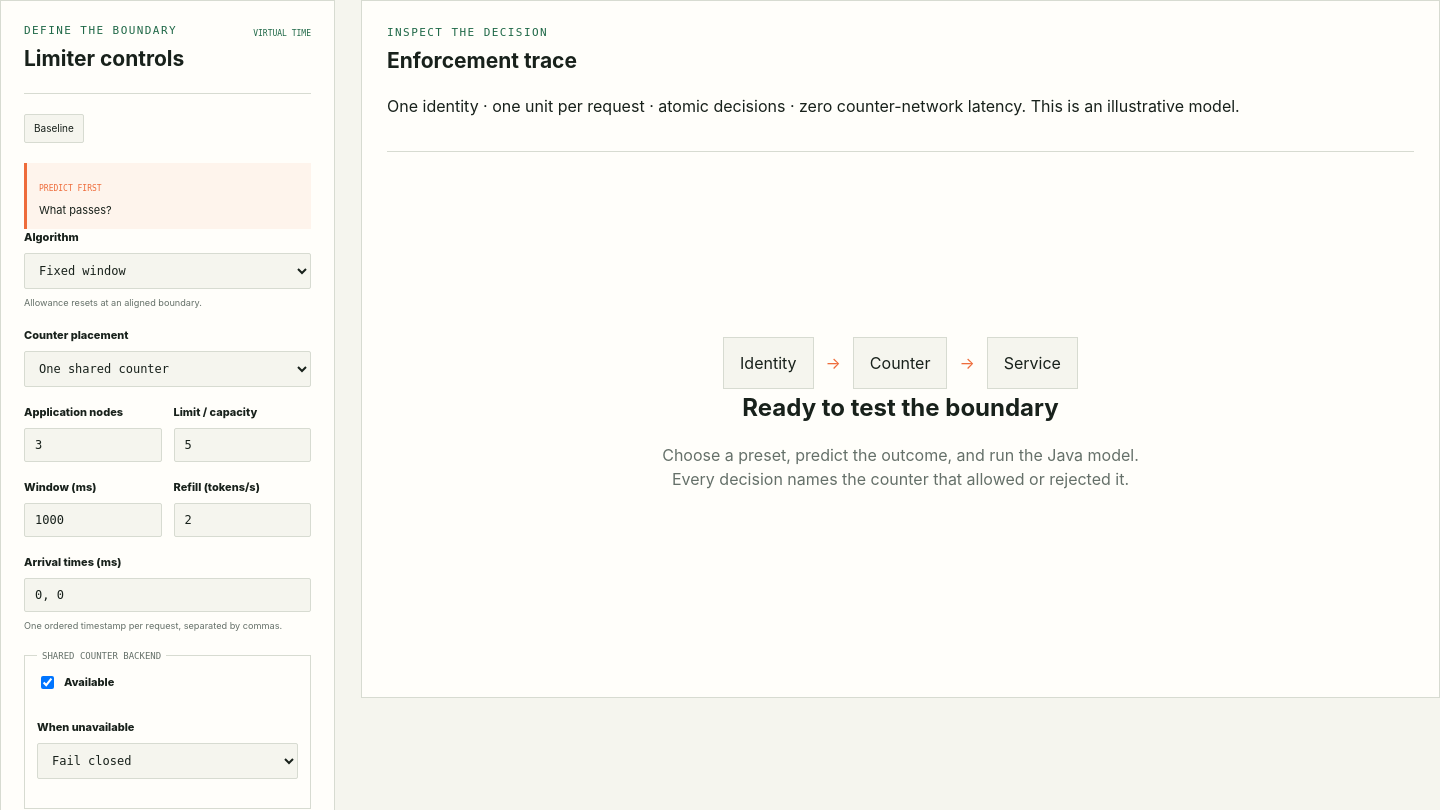
Scenario: Rate limiter playground › shows local aggregate allowance and stale-result state
Select "Local counter per node" in the dropdown labelled "Counter placement": (168, 369) [24,351,311,387]
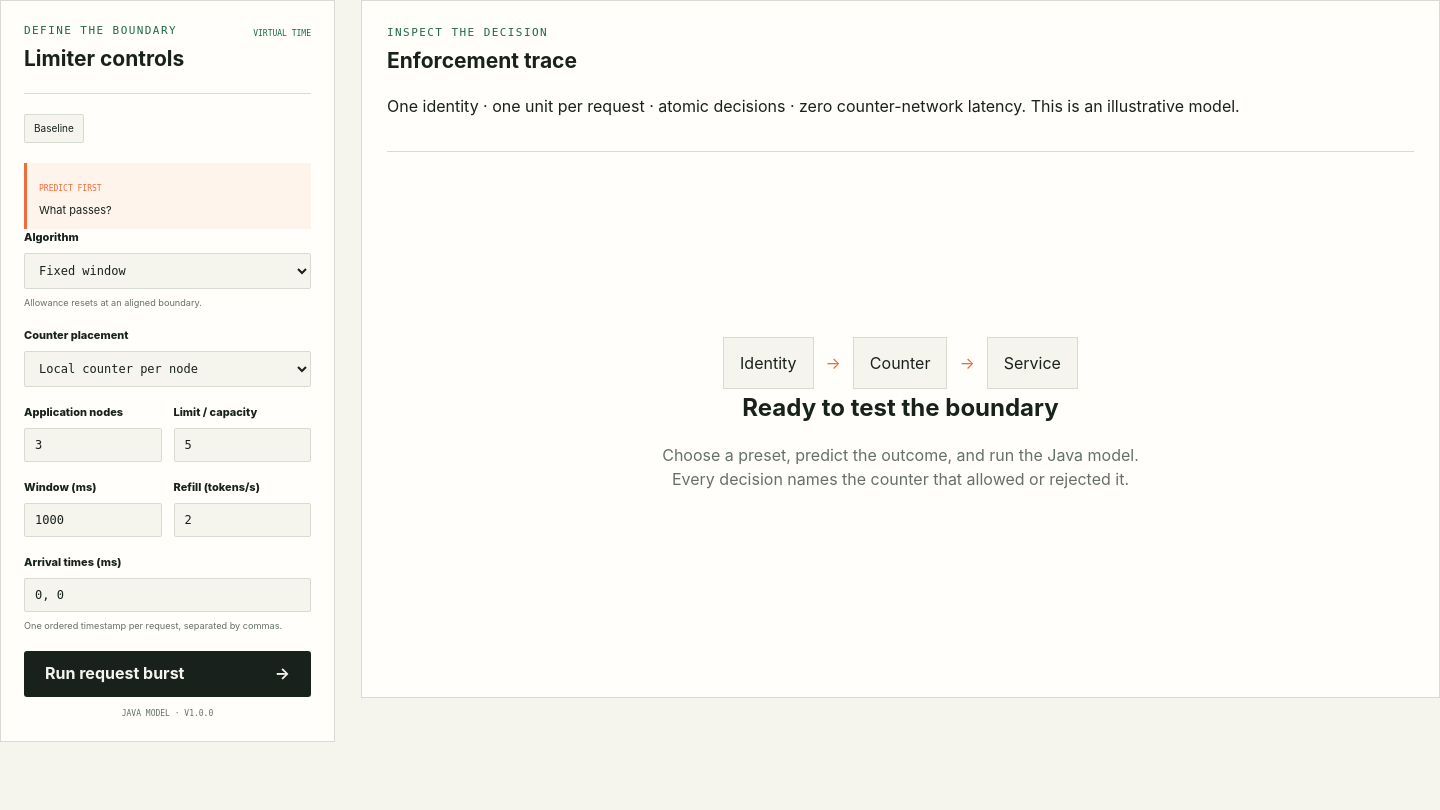
Click the button "Run request burst →": click(168, 674) [24,650,311,696]
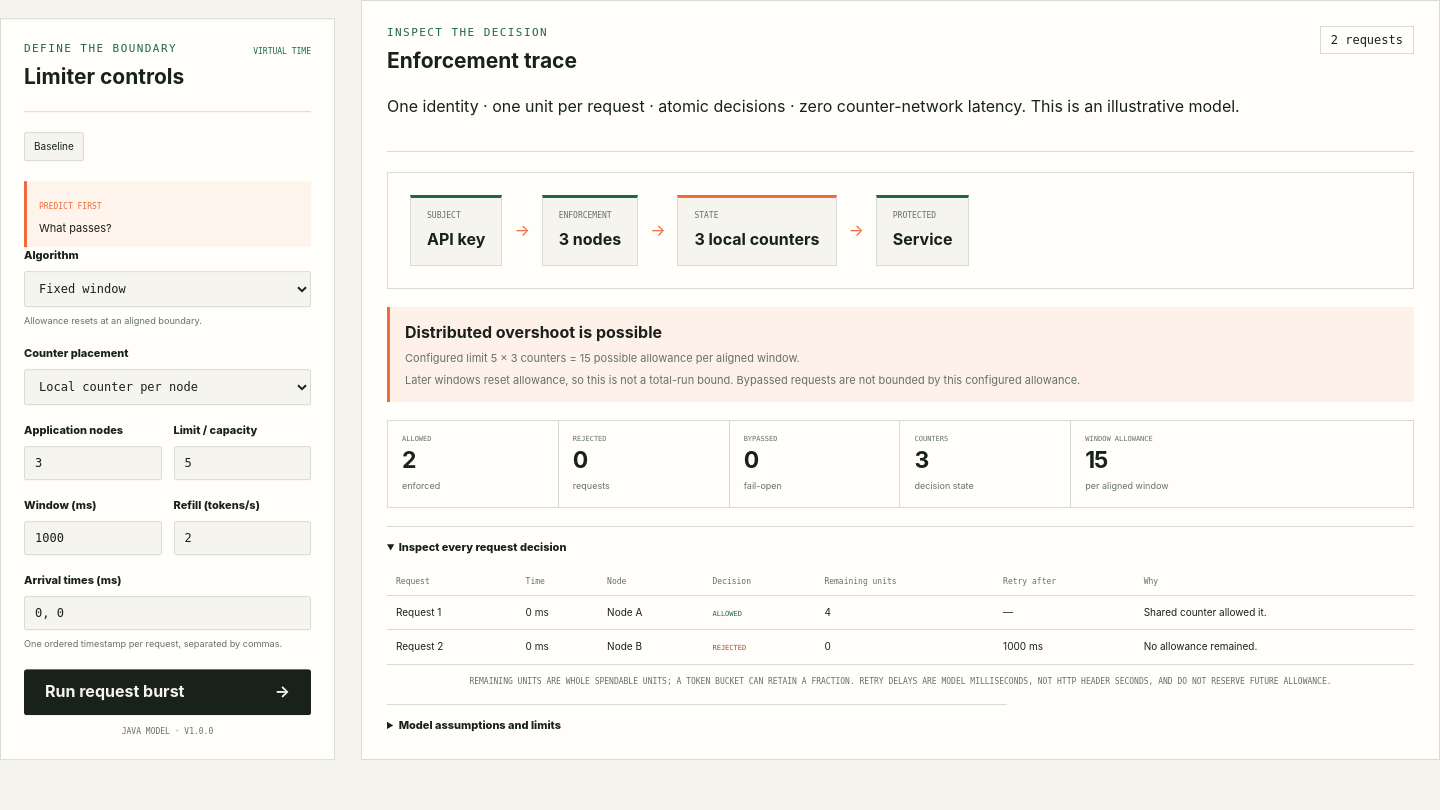
Check: the text "Distributed overshoot is possible" is shown, box [405,322,662,342]
Check: the text "5 × 3 counters = 15" is shown, box [405,351,800,365]
Replace the text in the number field labelled "Limit / capacity" with "6": (242, 463) [174,446,311,480]
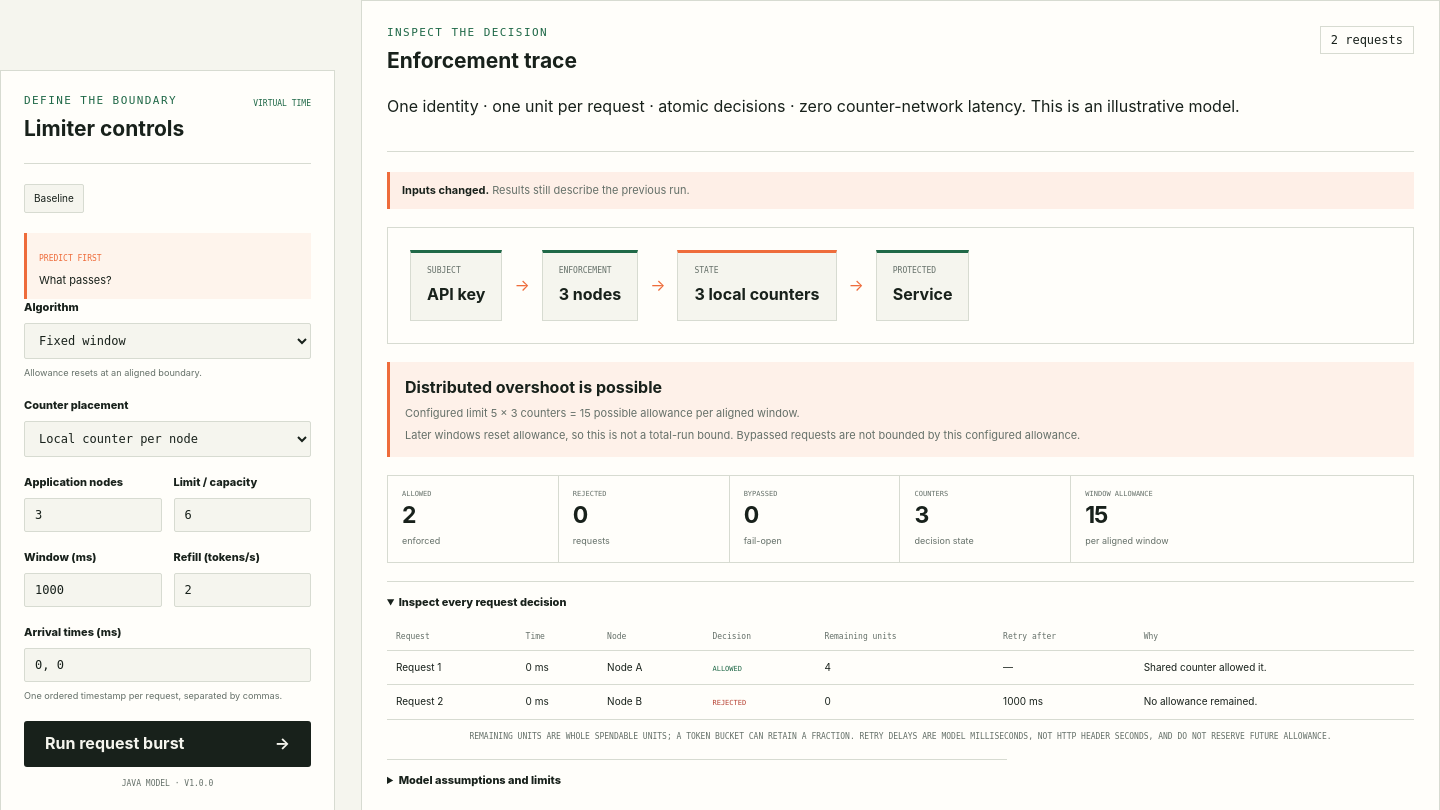
Check: the message shows "Inputs changed", box [402,183,489,197]
